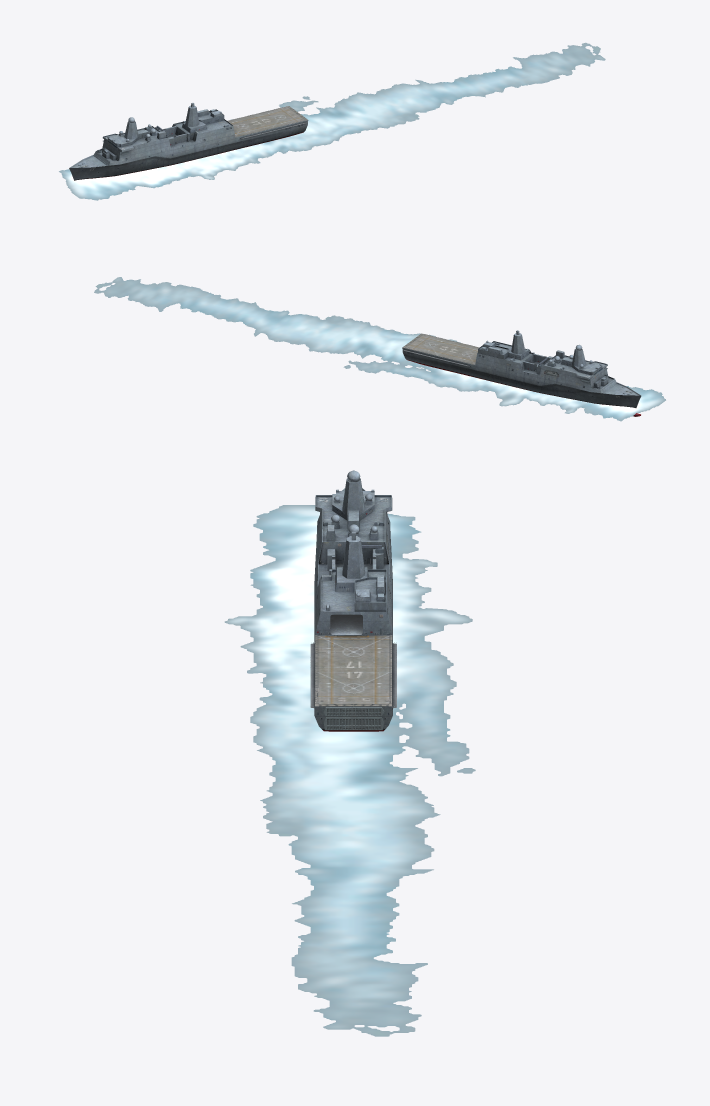
Rendered from lpd17.glb.
The picture shows the model from 3 angles, top to bottom: view 1: azimuth 30°, elevation 25°; view 2: azimuth 150°, elevation 25°; view 3: azimuth 270°, elevation 25°; orthographic projection. The views are drawn at different scales.
Parts seen in each view (by area): view 1: Wake, ShapeIndexedFaceS.005; view 2: Wake, ShapeIndexedFaceS.005; view 3: Wake, ShapeIndexedFaceS.005.
Part boxes in pixels (x1,y1,x2,y2): Wake: [59, 42, 605, 200]; ShapeIndexedFaceS.005: [69, 105, 308, 180]; Wake: [94, 277, 665, 421]; ShapeIndexedFaceS.005: [402, 333, 641, 416]; Wake: [224, 505, 475, 1036]; ShapeIndexedFaceS.005: [310, 478, 396, 731].
Bounding box in the file's own units: 556 × 50.16 × 108.
Materials: 3 (3 with a texture image).
